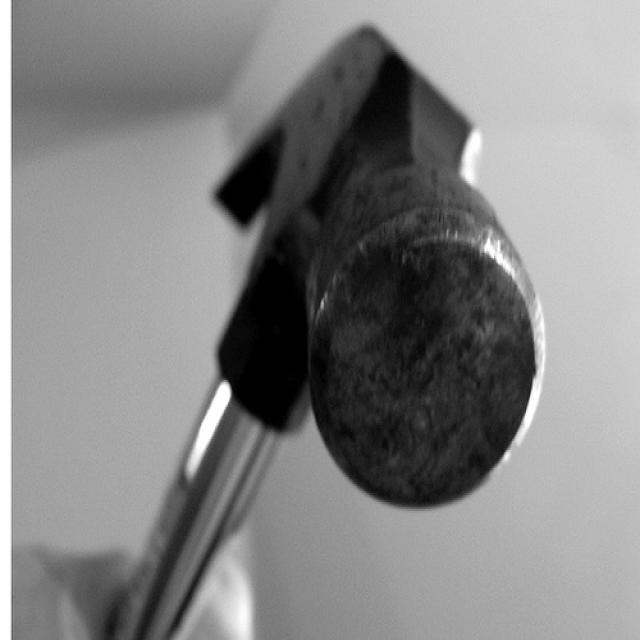hammer: (148, 13, 559, 566)
